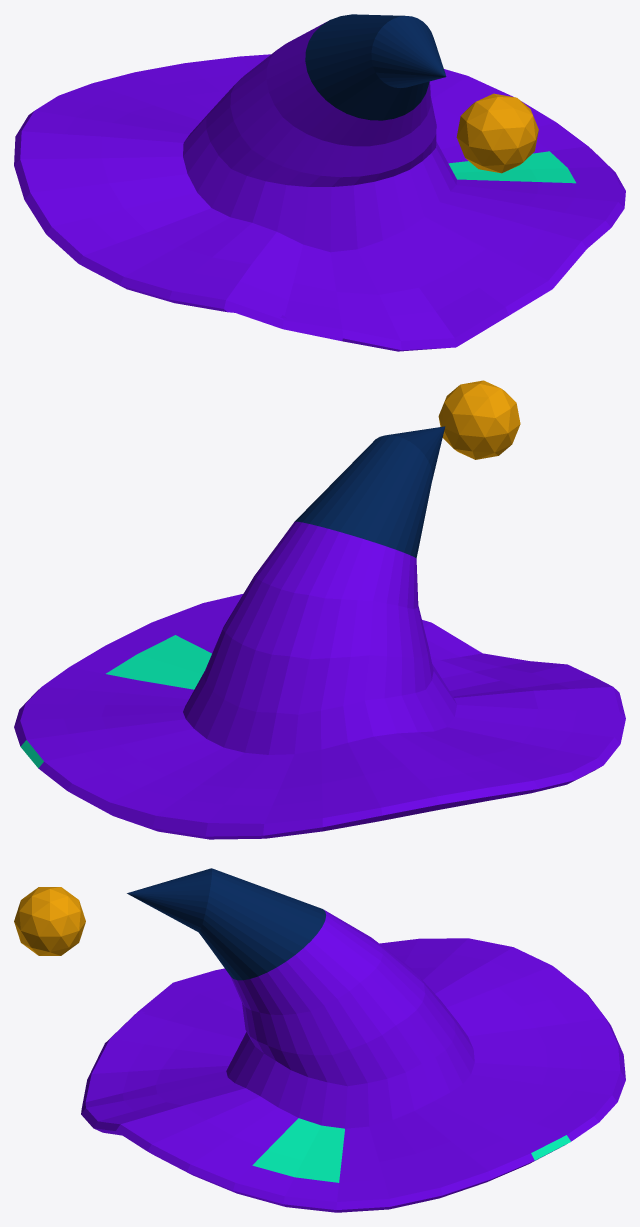
File: MagicHat2.0.fbx
3 renders of one model, top to bottom at view 1: azimuth 30°, elevation 25°; view 2: azimuth 150°, elevation 25°; view 3: azimuth 270°, elevation 25°, orthographic. The views are drawn at different scales.
Visible parts, largest first — view 1: 圆环, 棱角球; view 2: 圆环, 棱角球; view 3: 圆环, 棱角球.
Boxes of the visible parts, left/top/right/bottom form: 圆环: left=14, top=14, right=625, bottom=351; 棱角球: left=456, top=93, right=538, bottom=173; 圆环: left=14, top=426, right=625, bottom=839; 棱角球: left=438, top=380, right=520, bottom=459; 圆环: left=81, top=868, right=625, bottom=1212; 棱角球: left=14, top=887, right=85, bottom=955.
Bounding box in the file's own units: 77.64 × 86.72 × 38.91.
